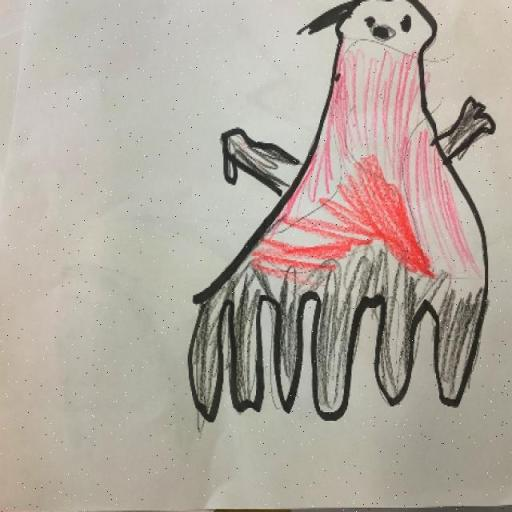person: (180, 2, 503, 429)
